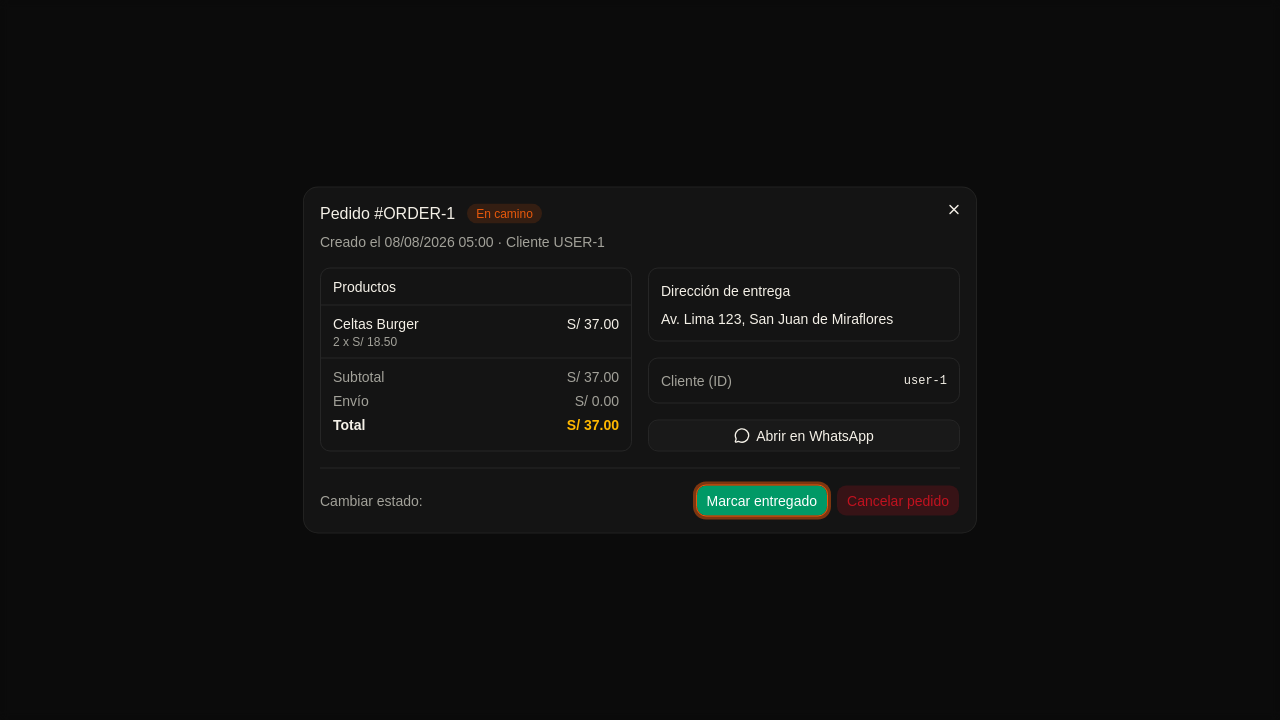
Scenario: OrderDetailDialog — cancelar pedido con motivo obligatorio › en_camino → cancelado: abre el diálogo de motivo en vez de cancelar directo
This screenshot has width=1280, height=720.
Click the button "Cancelar pedido" at (898, 500), box [836,484,960,516]
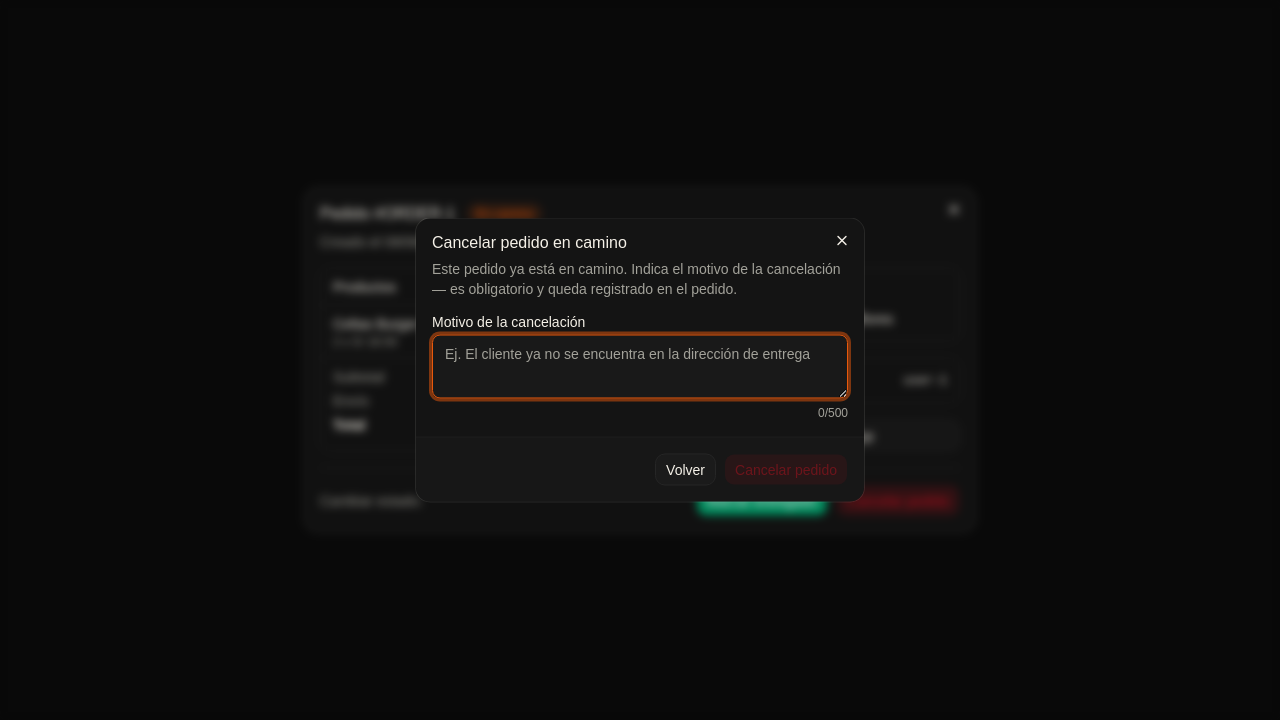
Check: the text "Indica el motivo de la cancelación" is shown, box [432,260,841,296]
Check: the text box labelled "Motivo de la cancelación" is shown, box [432,334,848,398]
